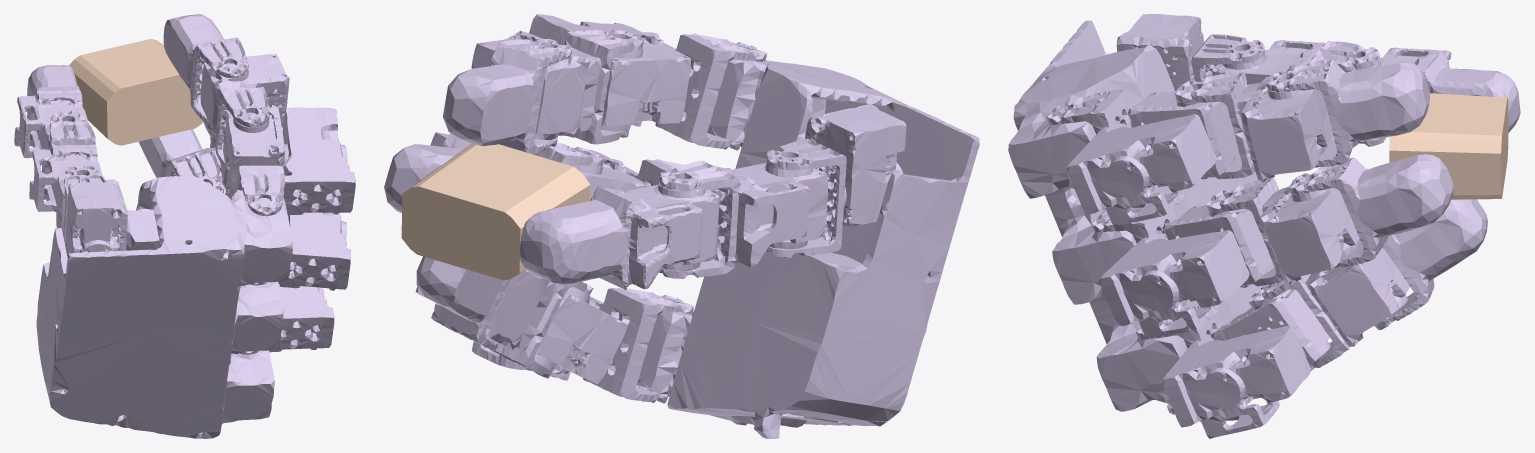
Rendered from 7bc171365869d6-closed.glb.
3 views of the same model, side by side, from view 1: azimuth 30°, elevation 25°; view 2: azimuth 150°, elevation 25°; view 3: azimuth 270°, elevation 25° (orthographic). The views are drawn at different scales.
Parts seen in each view (by area): view 1: LEAP_hand, world; view 2: LEAP_hand, world; view 3: LEAP_hand, world.
Part boxes in pixels (x1,y1,x2,y2): LEAP_hand: (14, 14, 355, 438); world: (69, 39, 203, 145); LEAP_hand: (384, 14, 979, 438); world: (401, 143, 590, 280); LEAP_hand: (1008, 14, 1520, 438); world: (1389, 93, 1508, 199).
Bounding box in the file's own units: 0.1687 × 0.1573 × 0.1909.
